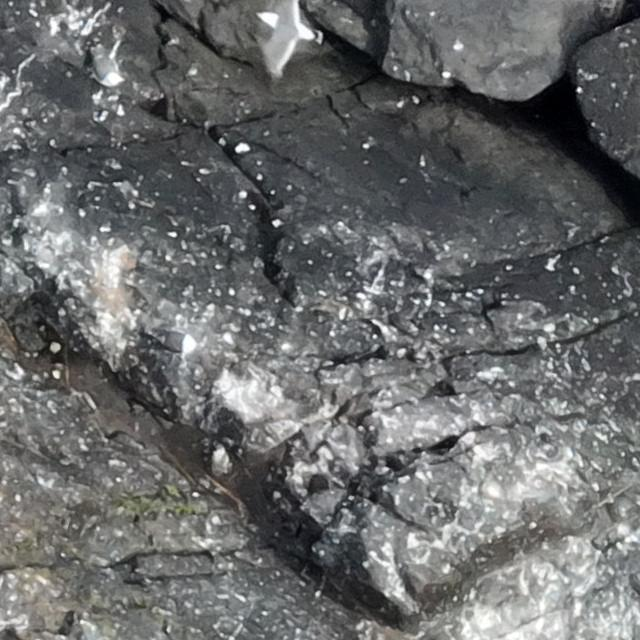F: (257, 2, 321, 73)
umineko: (90, 41, 122, 87), (149, 328, 197, 352)
